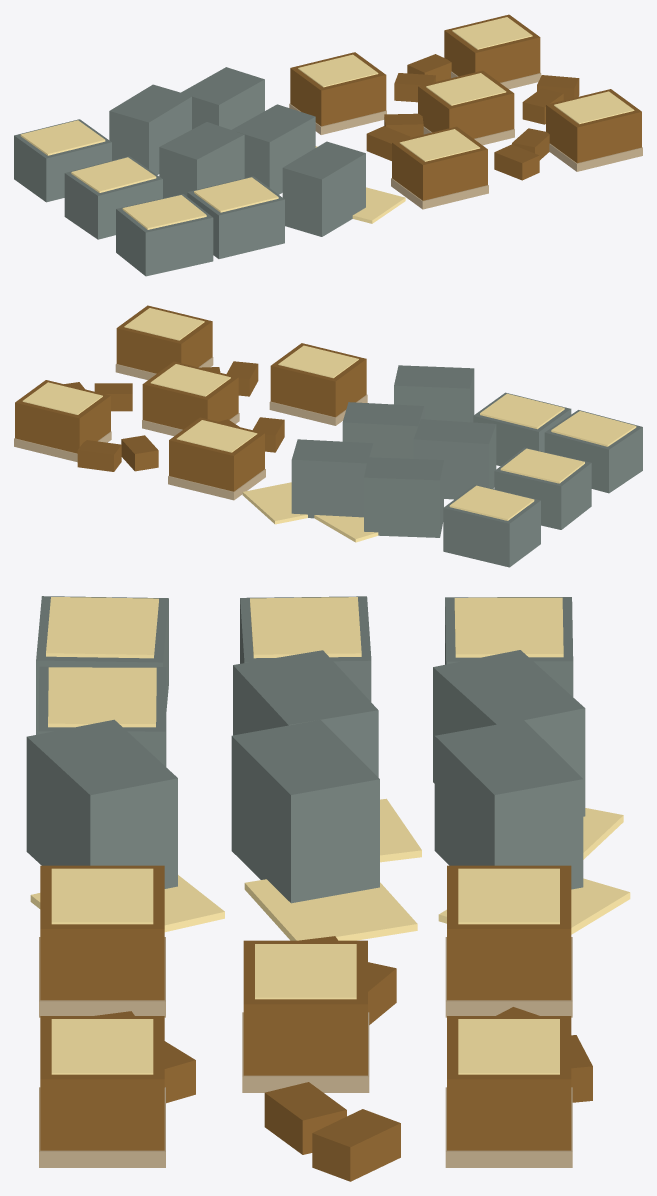
File: SM_AcopioViveres_v3_Saqueado_LOD1.fbx
3 views of the same model, one above another, from view 1: azimuth 30°, elevation 25°; view 2: azimuth 150°, elevation 25°; view 3: azimuth 270°, elevation 25° (orthographic). The views are drawn at different scales.
Visible parts, largest first — view 1: SM_acopio_viveres_v3_LOD1; view 2: SM_acopio_viveres_v3_LOD1; view 3: SM_acopio_viveres_v3_LOD1.
Boxes of the visible parts, bbox=[...] form: SM_acopio_viveres_v3_LOD1: bbox=[14, 14, 642, 276]; SM_acopio_viveres_v3_LOD1: bbox=[14, 305, 642, 567]; SM_acopio_viveres_v3_LOD1: bbox=[26, 596, 630, 1181].
Bounding box in the file's own units: 9.28 × 1 × 4.75.
